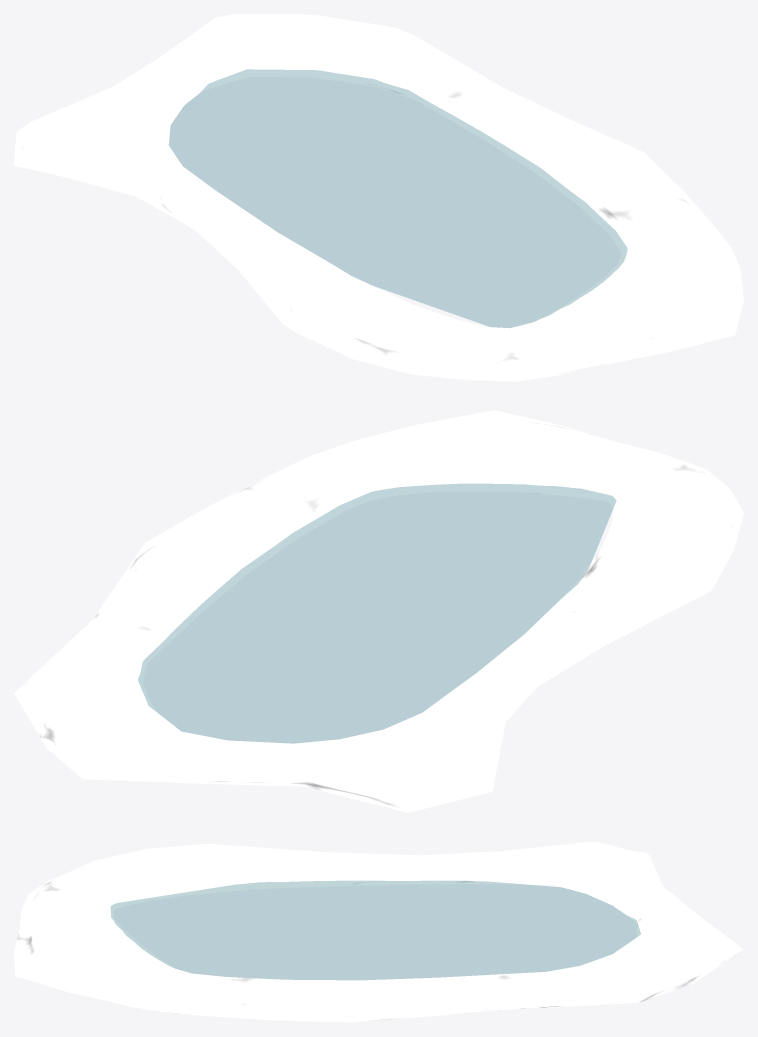
Rendered from MossPool.fbx.
The picture shows the model from 3 angles, top to bottom: view 1: azimuth 30°, elevation 25°; view 2: azimuth 150°, elevation 25°; view 3: azimuth 270°, elevation 25°; orthographic projection. The views are drawn at different scales.
Parts seen in each view (by area): view 1: Moss.005Pool; view 2: Moss.005Pool; view 3: Moss.005Pool.
Part boxes in pixels (x1,y1,x2,y2): Moss.005Pool: (14,14,743,381); Moss.005Pool: (14,410,743,812); Moss.005Pool: (14,841,743,1022).
Size of the model in its own units: 840 by 52.99 by 1384.
